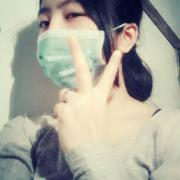OK: (37, 2, 111, 90)
